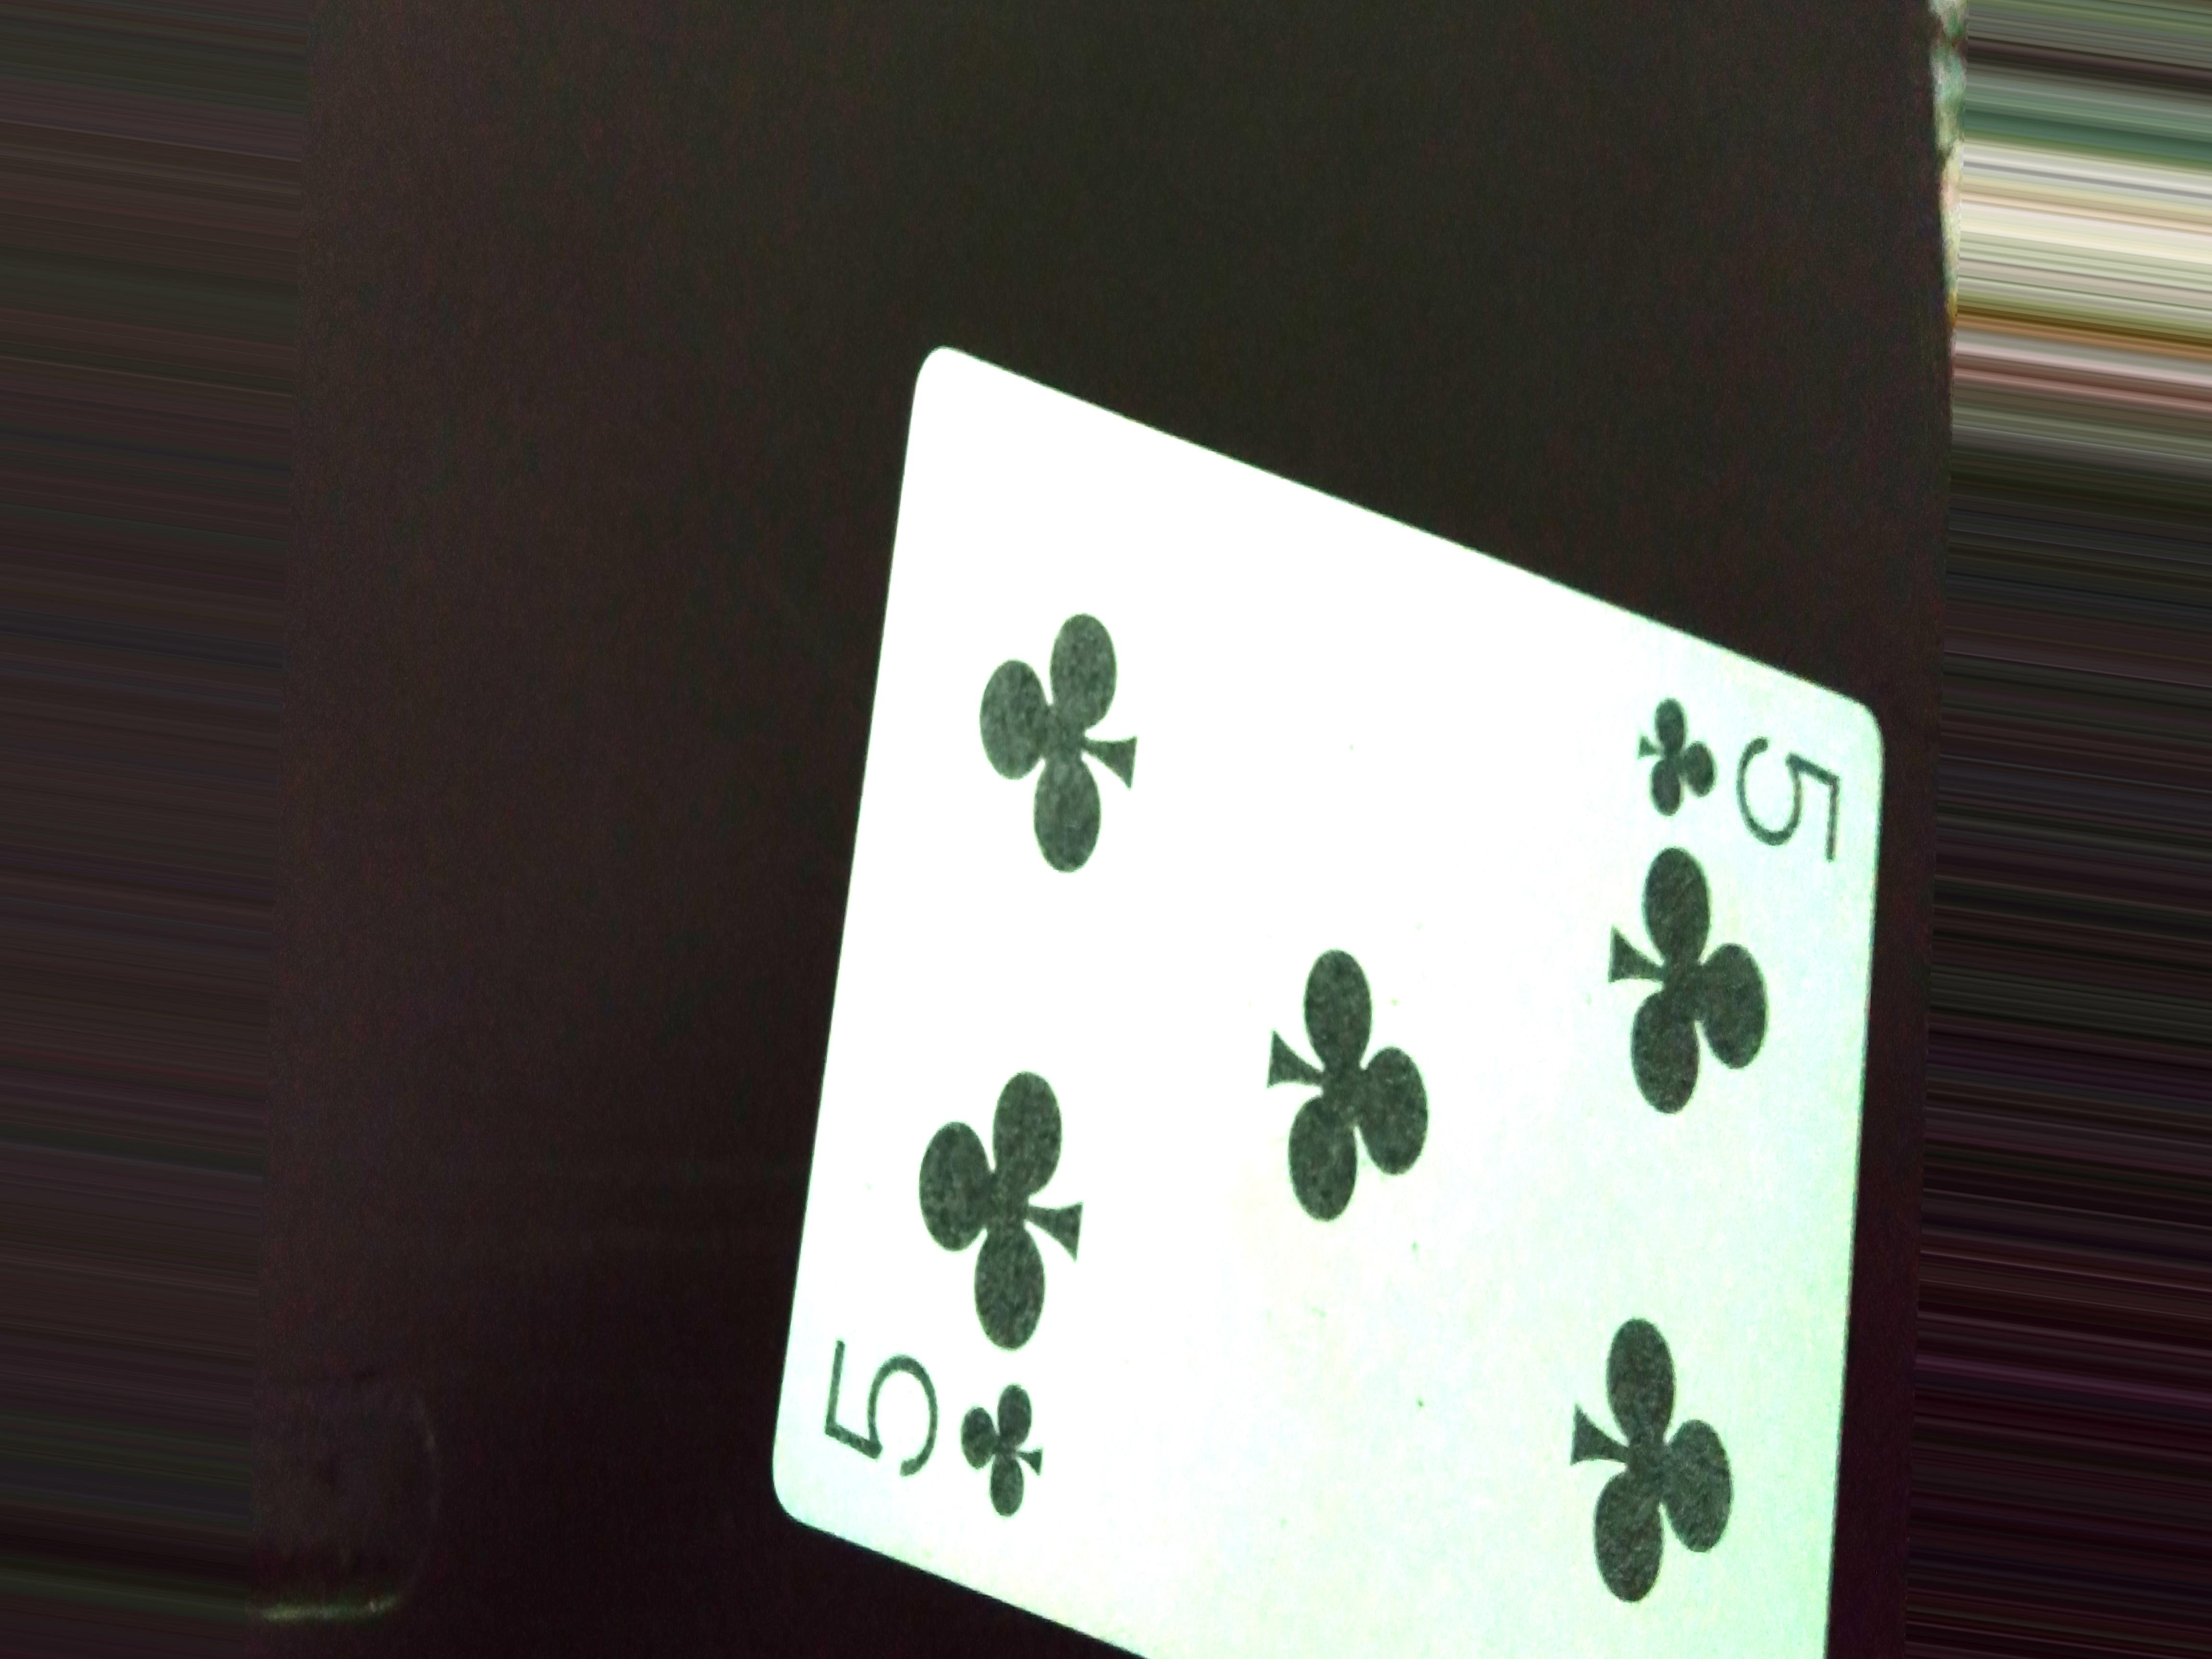5C: (1615, 680, 1874, 866)
